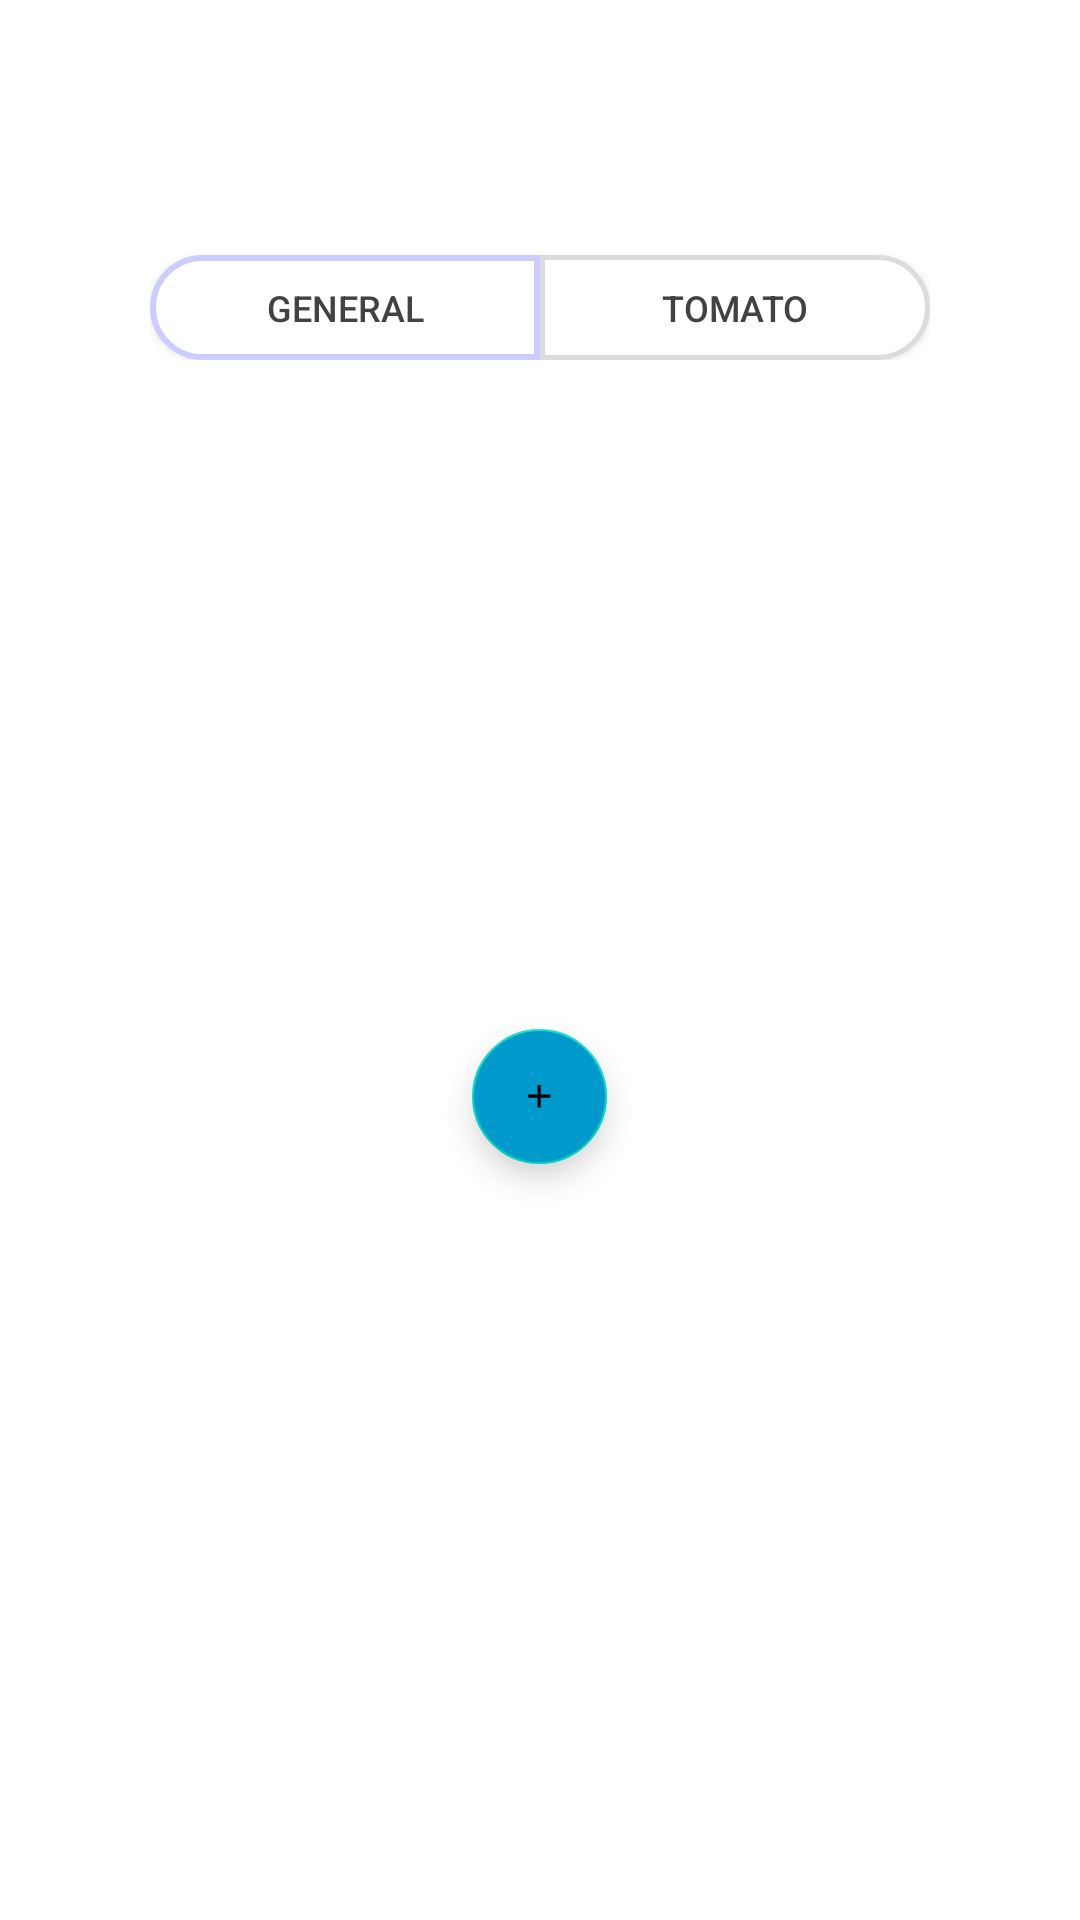

Locate icon controls on the screen. Image size 1080x1920, boxes as [left=x1, top=y1, right=x2, bottom=y2].
add: [left=472, top=1029, right=607, bottom=1164]
